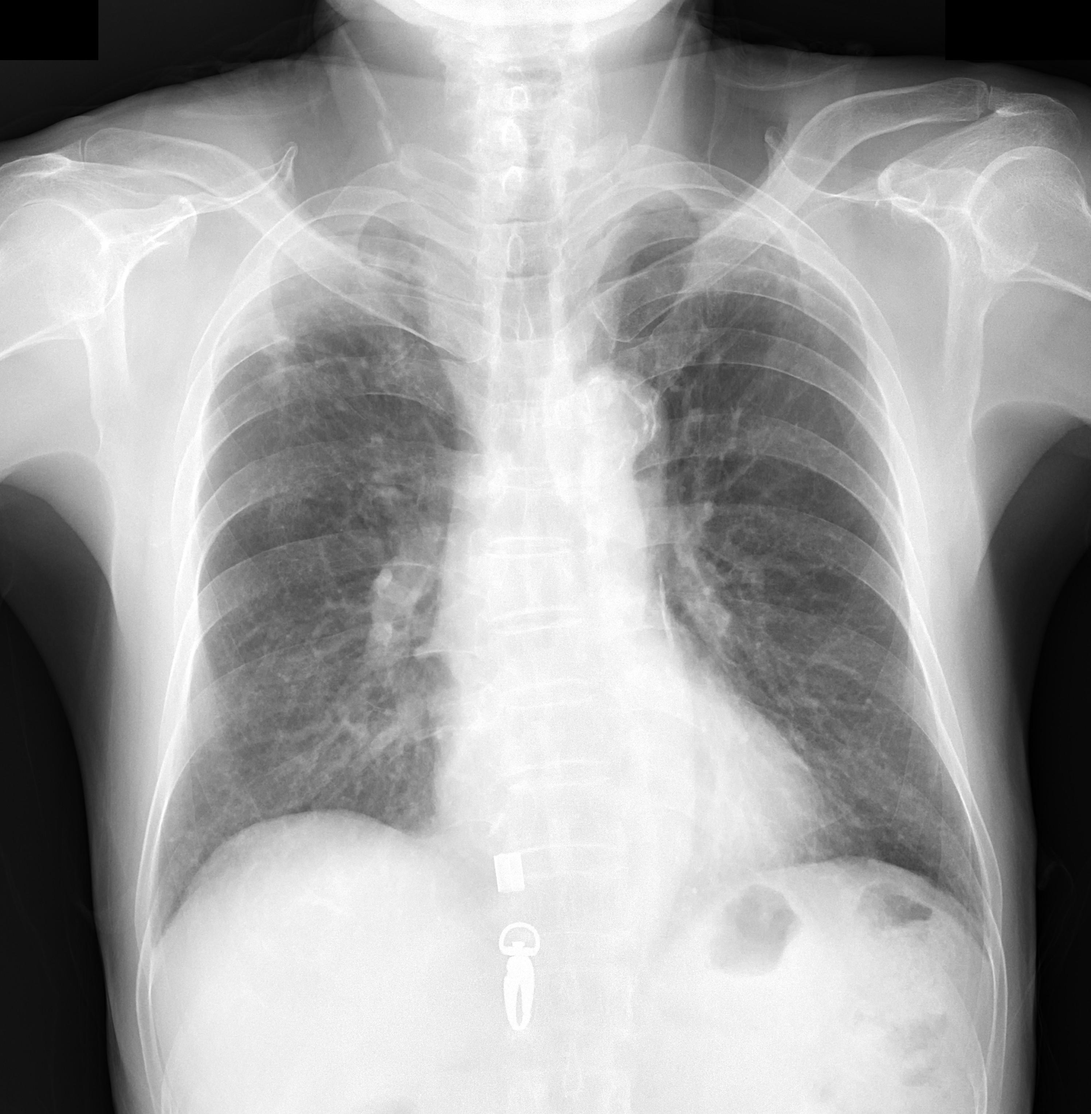Aortic enlargement: (546, 368, 662, 495)
Pleural thickening: (650, 151, 774, 211)
Pulmonary fibrosis: (225, 199, 424, 390), (679, 227, 818, 304)
